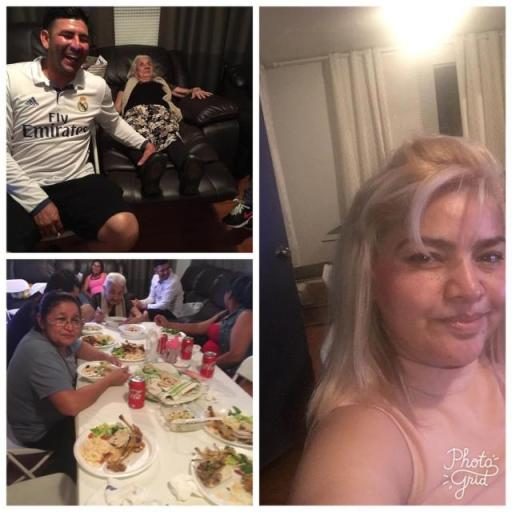Adidas: (24, 95, 40, 107)
Emirates: (20, 110, 90, 142)
